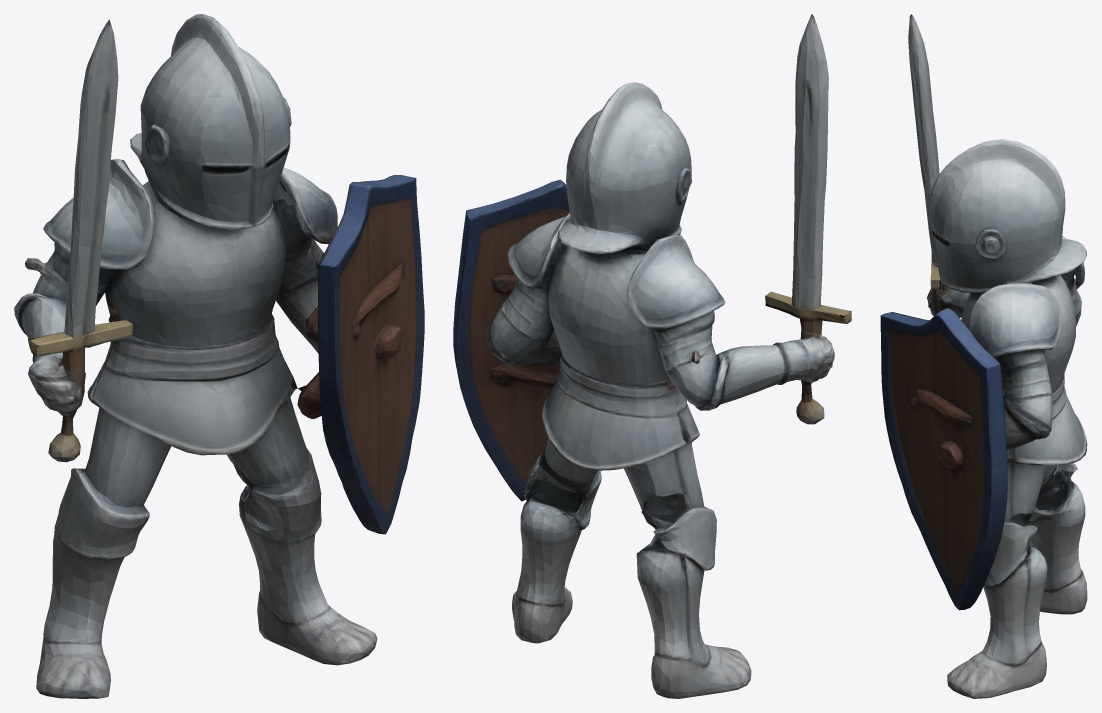
Rendered from cavaleiro.glb.
The picture shows the model from 3 angles, left to right: view 1: azimuth 30°, elevation 25°; view 2: azimuth 150°, elevation 25°; view 3: azimuth 270°, elevation 25°; orthographic projection. The views are drawn at different scales.
Visible parts, largest first — view 1: geometry_0; view 2: geometry_0; view 3: geometry_0.
Boxes of the visible parts, bbox=[...] form: geometry_0: bbox=[14, 14, 424, 698]; geometry_0: bbox=[453, 14, 851, 698]; geometry_0: bbox=[880, 14, 1087, 698].
Size of the model in its own units: 0.6097 by 0.9981 by 0.3281.
Materials: 1 (1 with a texture image).
